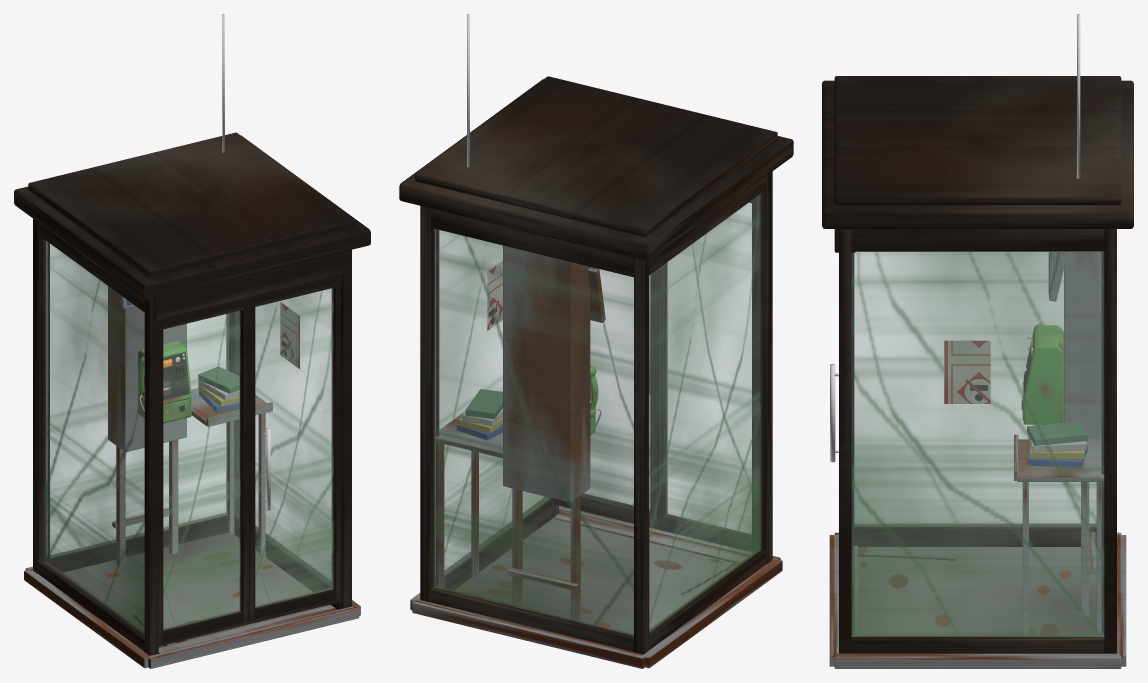
The model's file is phonebooth.glb.
The picture shows the model from 3 angles, left to right: view 1: azimuth 30°, elevation 25°; view 2: azimuth 150°, elevation 25°; view 3: azimuth 270°, elevation 25°; orthographic projection. The views are drawn at different scales.
Visible parts, largest first — view 1: Door, Booth_Glass, Booth_Frame, Booth_Roof, Booth_Interior, Phone_Body, Phone_Panel; view 2: Booth_Glass, Booth_Frame, Booth_Roof, Door, Booth_Interior; view 3: Booth_Glass, Booth_Frame, Booth_Roof, Booth_Interior, Phone_Body, Door.
Part boxes in pixels (left/top/right/bottom): Door: left=158, top=275, right=342, bottom=645; Booth_Glass: left=43, top=239, right=331, bottom=635; Booth_Frame: left=24, top=219, right=360, bottom=668; Booth_Roof: left=14, top=14, right=370, bottom=299; Booth_Interior: left=108, top=286, right=299, bottom=566; Phone_Body: left=138, top=341, right=191, bottom=423; Phone_Panel: left=163, top=352, right=189, bottom=400; Booth_Glass: left=433, top=194, right=761, bottom=635; Booth_Frame: left=410, top=171, right=782, bottom=668; Booth_Roof: left=399, top=14, right=793, bottom=260; Door: left=554, top=197, right=757, bottom=551; Booth_Interior: left=435, top=245, right=605, bottom=621; Booth_Glass: left=851, top=251, right=1104, bottom=636; Booth_Frame: left=829, top=229, right=1126, bottom=668; Booth_Roof: left=822, top=14, right=1133, bottom=228; Booth_Interior: left=944, top=252, right=1104, bottom=635; Phone_Body: left=1022, top=325, right=1063, bottom=424; Door: left=830, top=364, right=838, bottom=462.
Size of the model in its own units: 1.47 by 3.3 by 1.47.
Materials: 22 (10 with a texture image).
